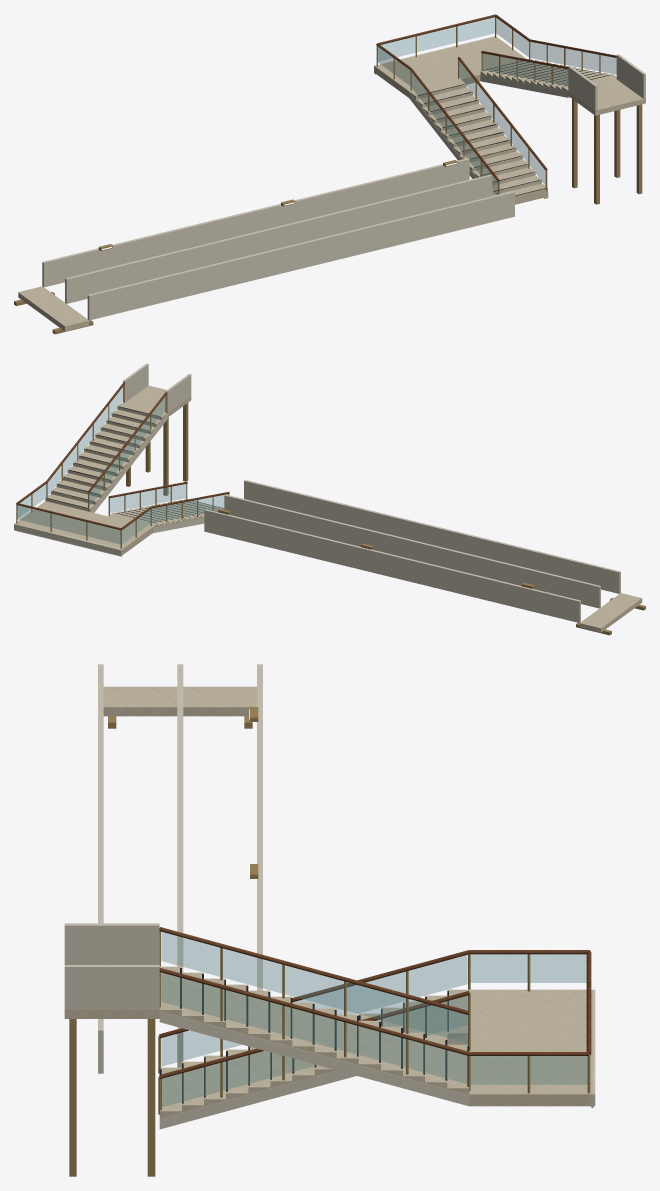
Rendered from D04_STAFF_COURT_APPROACH_SEALED_r002.glb.
The picture shows the model from 3 angles, top to bottom: view 1: azimuth 30°, elevation 25°; view 2: azimuth 150°, elevation 25°; view 3: azimuth 270°, elevation 25°; orthographic projection. The views are drawn at different scales.
Visible parts, largest first — view 1: D04SA_Stair, D04SA_ServiceLaneScreen_2, D04SA_ServiceLaneScreen_1, D04SA_ServiceLaneScreen_0, D04SA_StairWalkLanding, D04SA_Stair__CIR_GuardLandingRear, D04SA_StaffJunctionGapFloor, D04SA_UpperCourtLanding, D04SA_Stair__CIR_MidLanding, D04SA_UpperEdge_0, D04SA_UpperEdge_1, D04SA_UpperLandingPier_3 (+5 smaller); view 2: D04SA_Stair, D04SA_ServiceLaneScreen_0, D04SA_ServiceLaneScreen_2, D04SA_ServiceLaneScreen_1, D04SA_StairWalkLanding, D04SA_Stair__CIR_GuardLandingRear, D04SA_StaffJunctionGapFloor, D04SA_Stair__CIR_MidLanding, D04SA_Stair__CIR_LandingFascia, D04SA_UpperCourtLanding, D04SA_UpperEdge_0, D04SA_UpperEdge_1 (+3 smaller); view 3: D04SA_Stair, D04SA_StairWalkLanding, D04SA_StaffJunctionGapFloor, D04SA_UpperEdge_1, D04SA_Stair__CIR_MidLanding, D04SA_UpperEdge_0, D04SA_Stair__CIR_GuardLandingSide_5.92, D04SA_Stair__CIR_GuardLandingSide_0.08, D04SA_ServiceLaneScreen_1, D04SA_ServiceLaneScreen_0, D04SA_ServiceLaneScreen_2, D04SA_UpperLandingPier_1 (+2 smaller).
Part boxes in pixels (box(x1,y1,x2,y2)): D04SA_Stair: box(409, 26, 616, 204); D04SA_ServiceLaneScreen_2: box(87, 191, 514, 320); D04SA_ServiceLaneScreen_1: box(65, 174, 492, 303); D04SA_ServiceLaneScreen_0: box(42, 158, 469, 287); D04SA_StairWalkLanding: box(374, 37, 526, 96); D04SA_Stair__CIR_GuardLandingRear: box(378, 17, 494, 61); D04SA_StaffJunctionGapFloor: box(18, 286, 89, 331); D04SA_UpperCourtLanding: box(568, 79, 645, 115); D04SA_Stair__CIR_MidLanding: box(374, 38, 524, 97); D04SA_UpperEdge_0: box(568, 66, 597, 110); D04SA_UpperEdge_1: box(616, 54, 645, 98); D04SA_UpperLandingPier_3: box(636, 104, 642, 193); D04SA_Stair: box(45, 382, 229, 540); D04SA_ServiceLaneScreen_0: box(204, 509, 580, 622); D04SA_ServiceLaneScreen_2: box(244, 480, 620, 593); D04SA_ServiceLaneScreen_1: box(224, 494, 600, 608); D04SA_StairWalkLanding: box(15, 501, 152, 553); D04SA_Stair__CIR_GuardLandingRear: box(17, 505, 120, 544); D04SA_StaffJunctionGapFloor: box(579, 593, 642, 632); D04SA_Stair__CIR_MidLanding: box(19, 502, 152, 554); D04SA_Stair__CIR_LandingFascia: box(14, 524, 122, 556); D04SA_UpperCourtLanding: box(125, 385, 191, 417); D04SA_UpperEdge_0: box(165, 374, 191, 413); D04SA_UpperEdge_1: box(123, 363, 148, 402); D04SA_Stair: box(158, 927, 470, 1129); D04SA_StairWalkLanding: box(469, 989, 592, 1103); D04SA_StaffJunctionGapFloor: box(103, 686, 256, 716); D04SA_UpperEdge_1: box(64, 965, 159, 1009); D04SA_Stair__CIR_MidLanding: box(469, 989, 591, 1106); D04SA_UpperEdge_0: box(64, 923, 159, 964); D04SA_Stair__CIR_GuardLandingSide_5.92: box(470, 1056, 587, 1084); D04SA_Stair__CIR_GuardLandingSide_0.08: box(470, 954, 586, 982); D04SA_ServiceLaneScreen_1: box(177, 664, 183, 1067); D04SA_ServiceLaneScreen_0: box(257, 664, 262, 990); D04SA_ServiceLaneScreen_2: box(98, 664, 103, 1073); D04SA_UpperLandingPier_1: box(147, 1019, 155, 1176).
Bounding box in the file's own units: 28.56 × 6.05 × 12.85.
10 materials, 8 textured.
